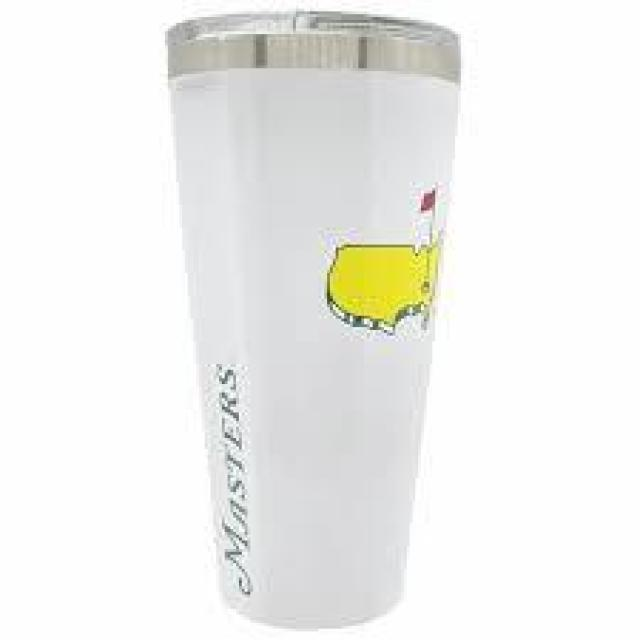bottle: (168, 14, 461, 629)
